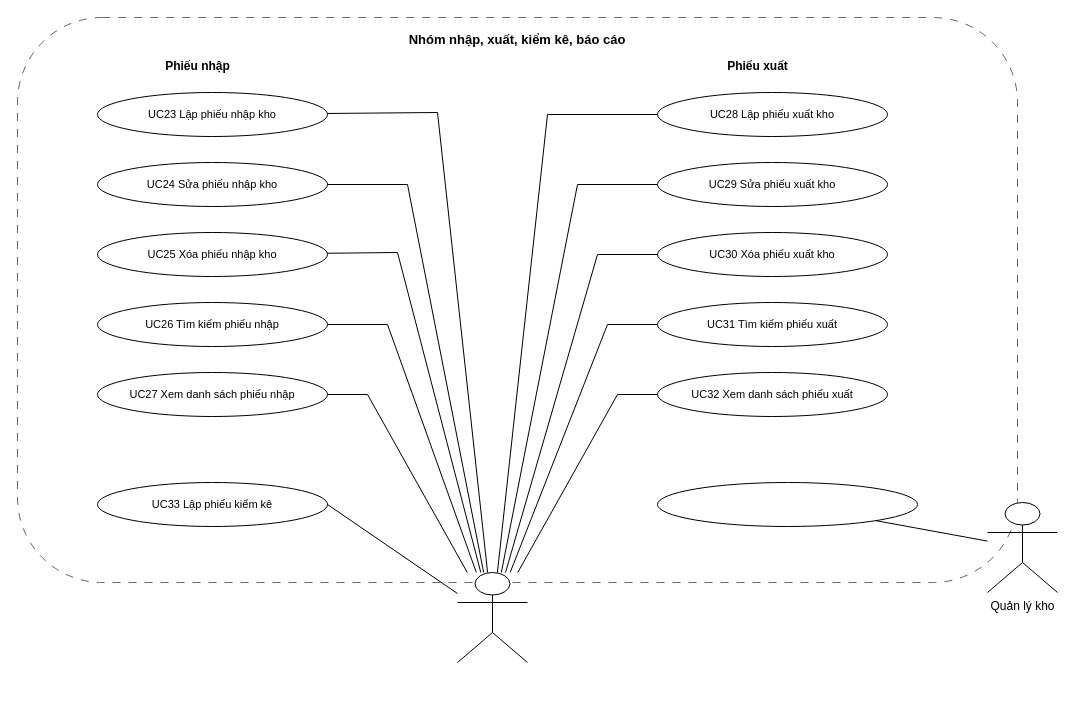
Some shapes in this 1075 by 716 pixel diagram are drawn without their labels. Here are the shapes that lost their labels. From the top down, the centre of each, then its label:
[787,504]: UC34 Xem báo cáo nhập xuất tồn
[492,617]: Nhân viên và Quản lý kho
